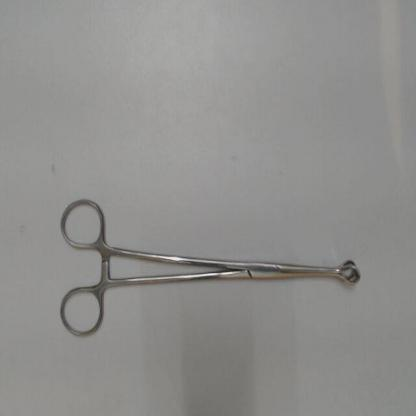8 Babcock Tissue Forceps: (53, 191, 365, 344)
